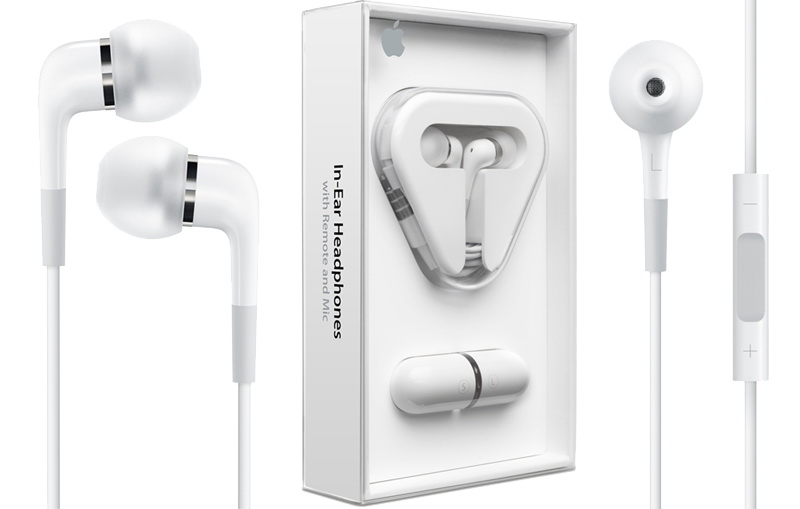Apple: (379, 11, 411, 66)
